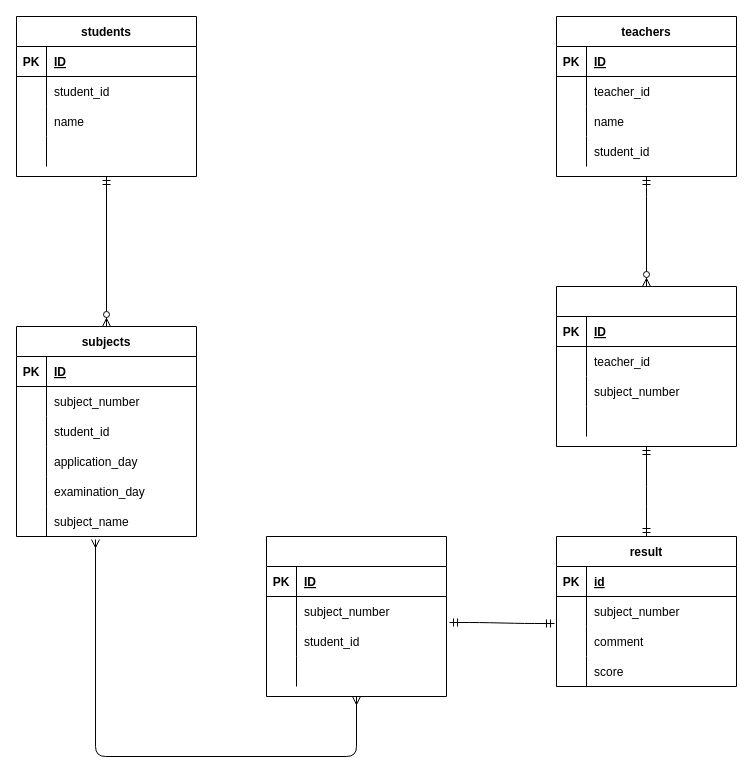
Some shapes in this 753 by 773 pixel diagram are drawn without their labels. The box of each missing label's shape, as (x1, y1, x2, y2) in pixels:
tests: (266, 536, 446, 696)
work: (556, 286, 736, 446)
